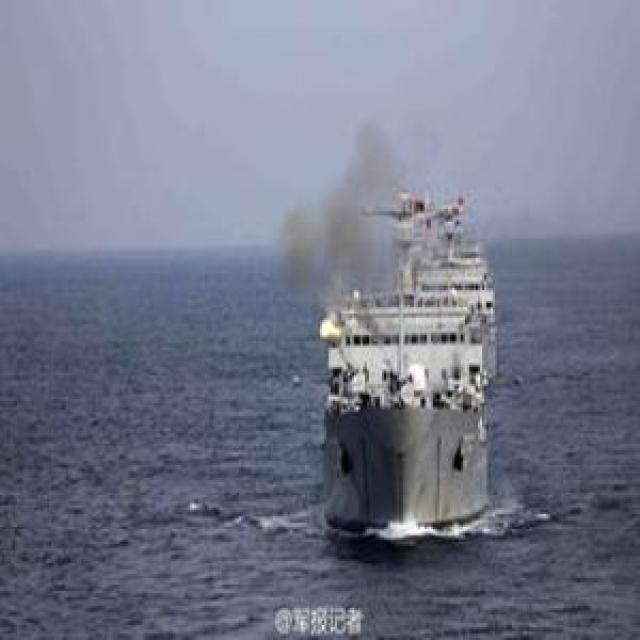passenger ship: (286, 202, 518, 534)
